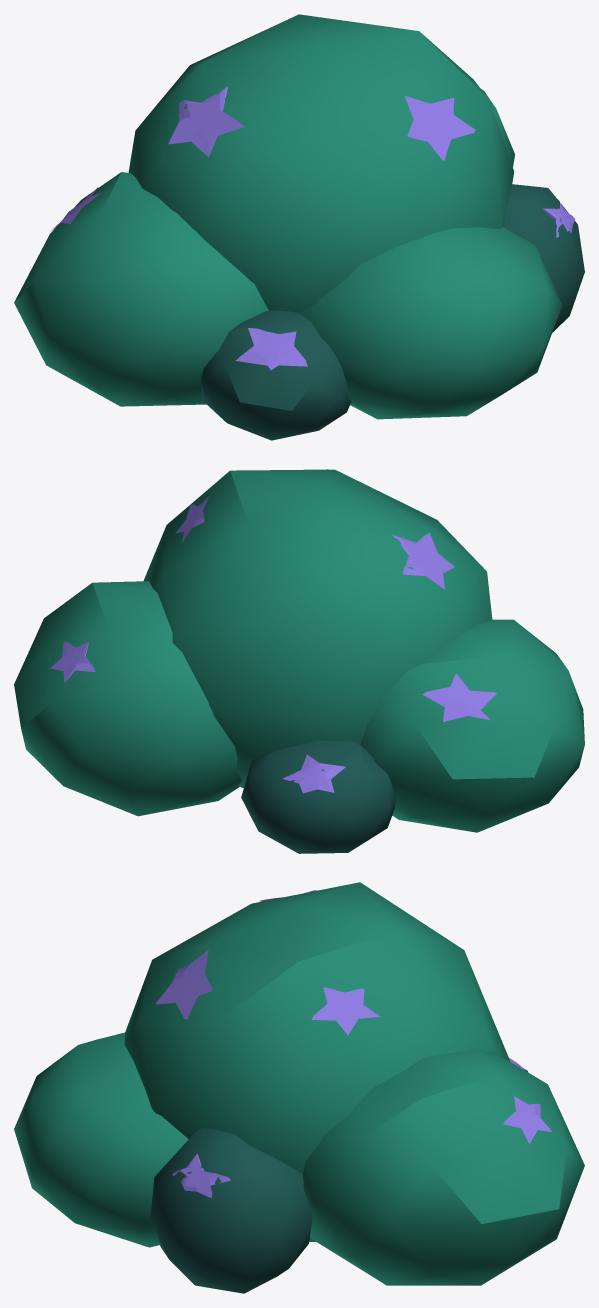
Rendered from Bush_S3.fbx.
3 renders of one model, top to bottom at view 1: azimuth 30°, elevation 25°; view 2: azimuth 150°, elevation 25°; view 3: azimuth 270°, elevation 25°, orthographic. The views are drawn at different scales.
Visible parts, largest first — view 1: Bush.003, Star.017, Star.022, Star.021; view 2: Bush.003, Star.020, Star.017, Star.019, Star.018, Star.023; view 3: Bush.003, Star.022, Star.023, Star.018, Star.024.
Part boxes in pixels (x1=…): Bush.003: x1=14, y1=14, x2=584, y2=440; Star.017: x1=168, y1=86, x2=244, y2=156; Star.022: x1=404, y1=96, x2=475, y2=160; Star.021: x1=235, y1=328, x2=307, y2=369; Bush.003: x1=14, y1=469, x2=584, y2=853; Star.020: x1=422, y1=673, x2=496, y2=721; Star.017: x1=392, y1=533, x2=454, y2=589; Star.019: x1=282, y1=754, x2=345, y2=793; Star.018: x1=50, y1=641, x2=95, y2=682; Star.023: x1=175, y1=496, x2=208, y2=542; Bush.003: x1=14, y1=882, x2=584, y2=1293; Star.022: x1=156, y1=950, x2=213, y2=1019; Star.023: x1=311, y1=987, x2=380, y2=1035; Star.018: x1=503, y1=1096, x2=552, y2=1143; Star.024: x1=172, y1=1154, x2=231, y2=1198.
Bounding box in the file's own units: 468 × 261 × 451.
